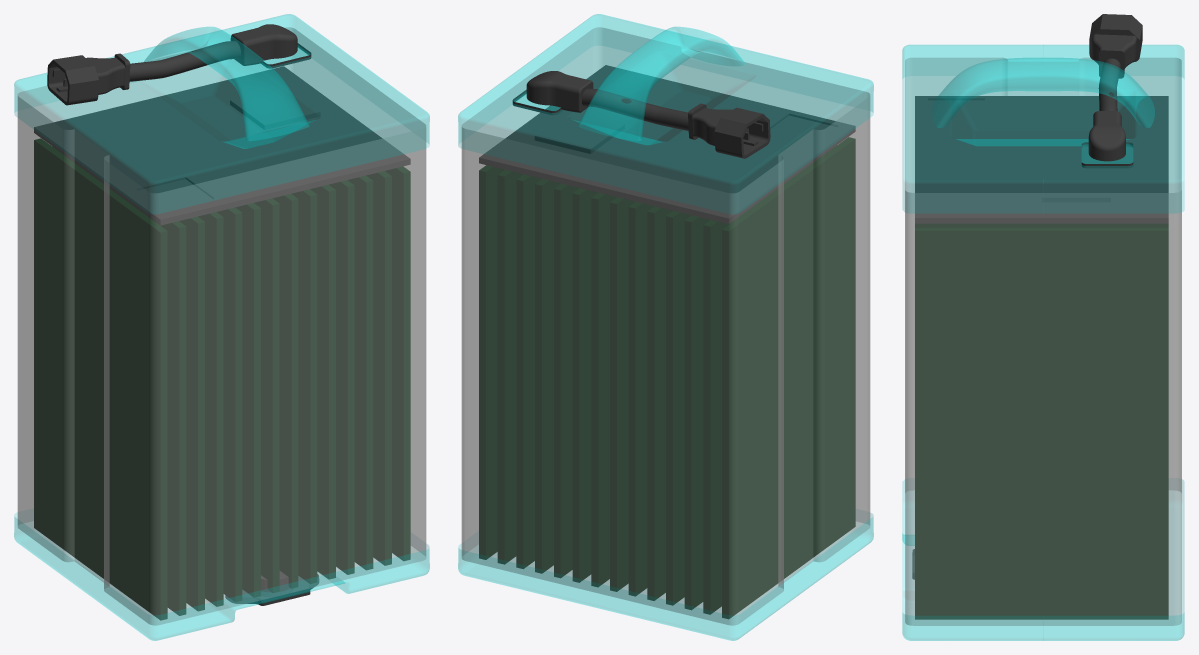
3 views of the same model, side by side, from view 1: azimuth 30°, elevation 25°; view 2: azimuth 150°, elevation 25°; view 3: azimuth 270°, elevation 25° (orthographic).
Parts seen in each view (by area): view 1: 零件几何体(DE2FD65F-CFE7-4EF3-B103-8C530425B037), 图层 01(172B2667-07C9-4190-9A50-A73F38D256C8), 图层 03(F8A43F9D-F649-4C4B-B59F-85E50CFB12F5), 图层 04(B7129BD5-68BC-46CA-8131-5149216F4C81), 图层 03(71A862F6-BFCE-4AB4-AFB2-FE093DF6D196), 图层 01(5127FAB4-E00C-4685-9F0D-6E076362304D), 图层 01(912AA0A9-BFA9-4AF9-B0F3-5AEABCD74D00), 图层 01(6309EEF6-4DB4-453F-98DE-0FAA0D19D2AC), 图层 01(98B635BB-B496-4E30-B1EA-AB867F63C197), 图层 01(125EF909-CB8B-4FDC-84C1-1A4918BF5404), Brep With Voids(20C485CF-E6FA-42C1-96EB-B26C3E16D4D8), 图层 01(F35B3FB4-53BE-4788-8862-8CE3CC02D139) (+10 smaller); view 2: 零件几何体(DE2FD65F-CFE7-4EF3-B103-8C530425B037), 图层 01(172B2667-07C9-4190-9A50-A73F38D256C8), 图层 03(F8A43F9D-F649-4C4B-B59F-85E50CFB12F5), 图层 04(B7129BD5-68BC-46CA-8131-5149216F4C81), 图层 03(71A862F6-BFCE-4AB4-AFB2-FE093DF6D196), 图层 01(67DF1876-5459-41DC-8931-023ABEF8D734), 图层 01(E03918B5-CFF5-44D8-848D-9B973E71E291), 图层 01(01F5EA34-5C64-4115-A881-93790751A954), 图层 01(912AA0A9-BFA9-4AF9-B0F3-5AEABCD74D00), Brep With Voids(20C485CF-E6FA-42C1-96EB-B26C3E16D4D8), 图层 01(5127FAB4-E00C-4685-9F0D-6E076362304D), 图层 01(6309EEF6-4DB4-453F-98DE-0FAA0D19D2AC) (+9 smaller); view 3: 零件几何体(DE2FD65F-CFE7-4EF3-B103-8C530425B037), 图层 01(211E75ED-2AB1-444E-B7D9-A4C801579DBF), 图层 03(F8A43F9D-F649-4C4B-B59F-85E50CFB12F5), 图层 04(B7129BD5-68BC-46CA-8131-5149216F4C81), 图层 03(71A862F6-BFCE-4AB4-AFB2-FE093DF6D196), 图层 03(BB23D25F-CD63-4DC5-8FA8-574C64C15F2B), Brep With Voids(20C485CF-E6FA-42C1-96EB-B26C3E16D4D8), 图层 04(A1BCD574-ED95-416A-9D99-0A3FA7709CC8), 图层 01(01F5EA34-5C64-4115-A881-93790751A954), Brep With Voids(6E02EAE6-8B37-47B4-879D-881C6B93055A).
Boxes of the visible parts, x1,y1,x2,y2 form: 零件几何体(DE2FD65F-CFE7-4EF3-B103-8C530425B037): (17,27,426,625); 图层 01(172B2667-07C9-4190-9A50-A73F38D256C8): (34,138,167,620); 图层 03(F8A43F9D-F649-4C4B-B59F-85E50CFB12F5): (14,14,429,213); 图层 04(B7129BD5-68BC-46CA-8131-5149216F4C81): (34,66,410,225); 图层 03(71A862F6-BFCE-4AB4-AFB2-FE093DF6D196): (14,513,429,640); 图层 01(5127FAB4-E00C-4685-9F0D-6E076362304D): (53,147,186,615); 图层 01(912AA0A9-BFA9-4AF9-B0F3-5AEABCD74D00): (292,189,317,583); 图层 01(6309EEF6-4DB4-453F-98DE-0FAA0D19D2AC): (348,175,373,569); 图层 01(98B635BB-B496-4E30-B1EA-AB867F63C197): (217,207,242,601); 图层 01(125EF909-CB8B-4FDC-84C1-1A4918BF5404): (273,194,298,588); Brep With Voids(20C485CF-E6FA-42C1-96EB-B26C3E16D4D8): (47,24,311,105); 图层 01(F35B3FB4-53BE-4788-8862-8CE3CC02D139): (329,180,354,574); 零件几何体(DE2FD65F-CFE7-4EF3-B103-8C530425B037): (461,27,870,625); 图层 01(172B2667-07C9-4190-9A50-A73F38D256C8): (722,137,855,618); 图层 03(F8A43F9D-F649-4C4B-B59F-85E50CFB12F5): (458,14,873,213); 图层 04(B7129BD5-68BC-46CA-8131-5149216F4C81): (479,65,855,223); 图层 03(71A862F6-BFCE-4AB4-AFB2-FE093DF6D196): (458,513,873,640); 图层 01(67DF1876-5459-41DC-8931-023ABEF8D734): (684,215,709,609); 图层 01(E03918B5-CFF5-44D8-848D-9B973E71E291): (628,202,653,596); 图层 01(01F5EA34-5C64-4115-A881-93790751A954): (497,170,522,564); 图层 01(912AA0A9-BFA9-4AF9-B0F3-5AEABCD74D00): (572,188,597,582); Brep With Voids(20C485CF-E6FA-42C1-96EB-B26C3E16D4D8): (512,71,770,158); 图层 01(5127FAB4-E00C-4685-9F0D-6E076362304D): (703,147,834,614); 图层 01(6309EEF6-4DB4-453F-98DE-0FAA0D19D2AC): (516,174,541,568); 零件几何体(DE2FD65F-CFE7-4EF3-B103-8C530425B037): (905,58,1181,625); 图层 01(211E75ED-2AB1-444E-B7D9-A4C801579DBF): (915,227,1168,619); 图层 03(F8A43F9D-F649-4C4B-B59F-85E50CFB12F5): (902,44,1184,213); 图层 04(B7129BD5-68BC-46CA-8131-5149216F4C81): (915,96,1168,223); 图层 03(71A862F6-BFCE-4AB4-AFB2-FE093DF6D196): (902,480,1184,640); 图层 03(BB23D25F-CD63-4DC5-8FA8-574C64C15F2B): (932,58,1154,127); Brep With Voids(20C485CF-E6FA-42C1-96EB-B26C3E16D4D8): (1081,14,1142,168); 图层 04(A1BCD574-ED95-416A-9D99-0A3FA7709CC8): (1042,170,1110,201); 图层 01(01F5EA34-5C64-4115-A881-93790751A954): (915,223,1168,227); Brep With Voids(6E02EAE6-8B37-47B4-879D-881C6B93055A): (1082,143,1132,163).
Bounding box in the file's own units: 0.0101 × 0.0176 × 0.00876.
